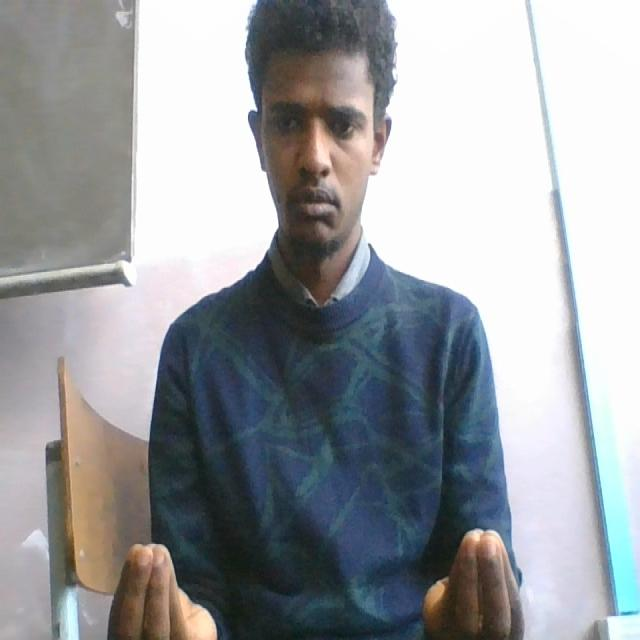tena_ystilgn: (105, 508, 530, 640)
